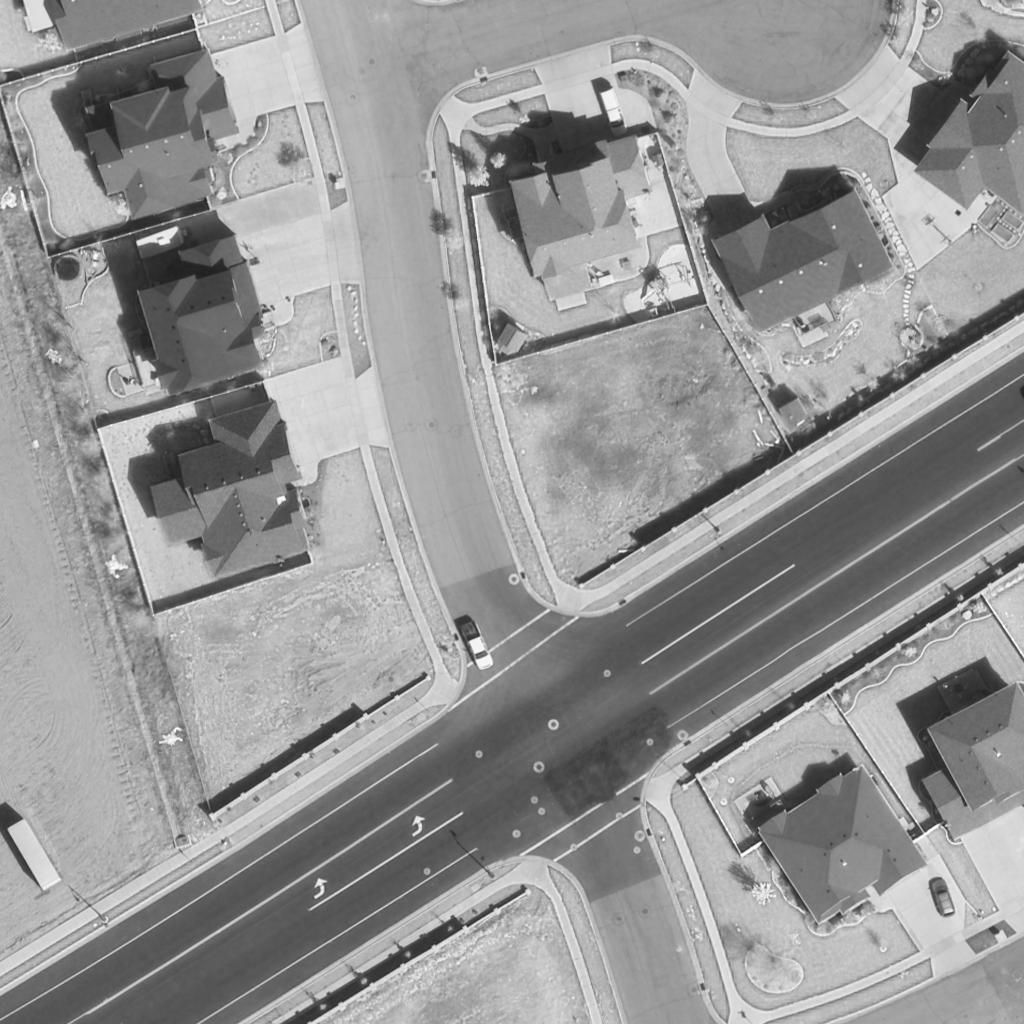vehicle: (456, 620, 496, 670), (134, 225, 192, 259), (599, 87, 629, 141), (928, 877, 958, 919)
